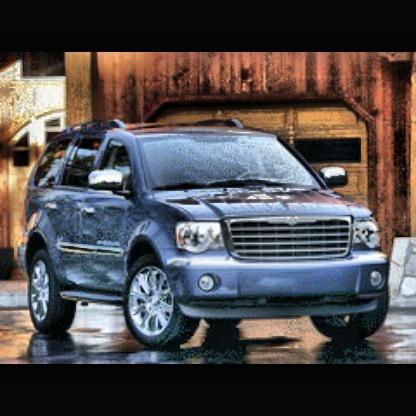Chrysler Aspen SUV 2009: (8, 119, 410, 361)
